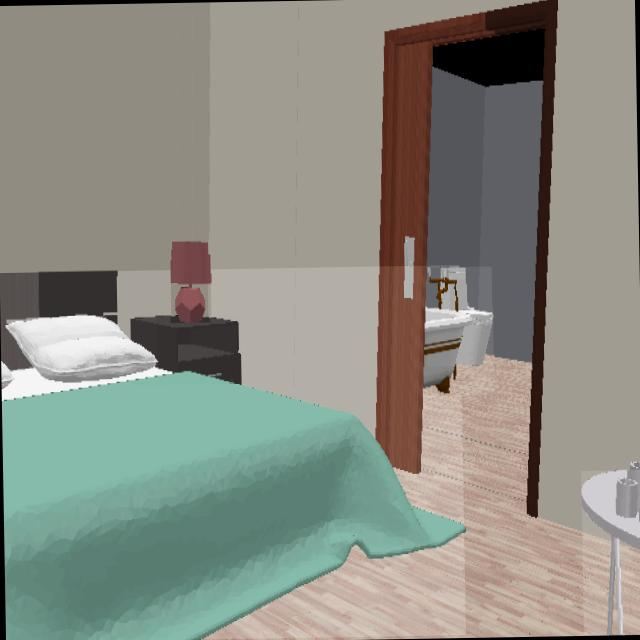bathtube: (423, 308, 493, 394)
bed: (0, 272, 464, 640)
lamp: (171, 241, 209, 322)
nighttable: (130, 316, 240, 383)
pillow: (7, 317, 157, 381)
table: (582, 470, 640, 634)
toilet: (426, 267, 492, 365)
